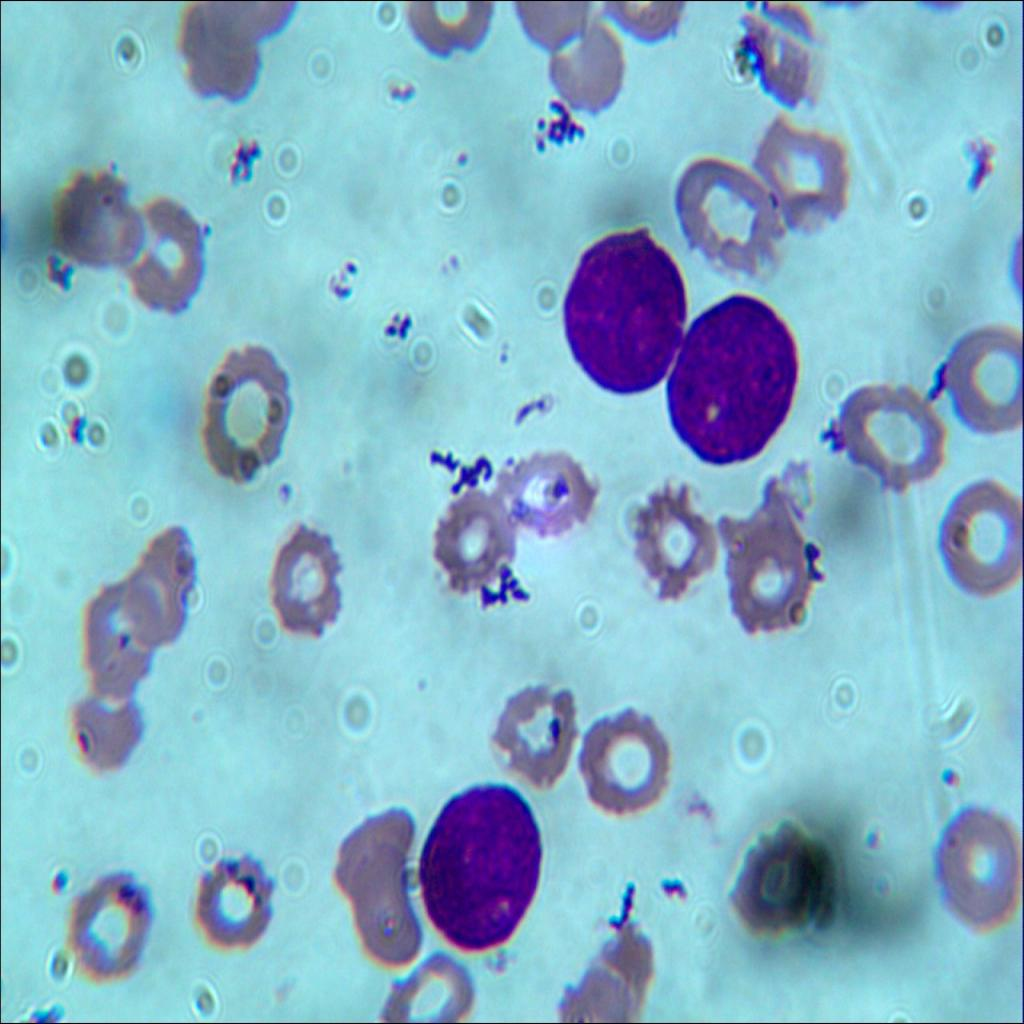Eritrosit: (669, 154, 789, 280), (204, 340, 298, 489), (830, 372, 942, 494), (938, 461, 1024, 610), (728, 812, 822, 947), (751, 111, 853, 230), (584, 694, 678, 820), (930, 815, 1024, 938), (624, 475, 713, 597), (489, 681, 578, 802), (120, 201, 218, 308), (78, 582, 158, 708), (570, 914, 661, 1023), (166, 1, 268, 97), (726, 508, 806, 630), (56, 161, 141, 274), (429, 487, 523, 589), (498, 447, 596, 538), (191, 850, 271, 961), (942, 322, 1023, 431), (68, 878, 158, 971), (343, 856, 422, 961), (270, 534, 344, 638), (744, 5, 818, 108), (132, 522, 194, 642), (336, 797, 411, 894), (544, 17, 626, 104), (69, 675, 136, 781), (374, 955, 474, 1023), (398, 0, 503, 55)
Limfoblast: (655, 278, 803, 454), (411, 771, 548, 948), (562, 234, 680, 396)
Platelet: (938, 758, 966, 804), (335, 245, 368, 282), (49, 854, 78, 895), (858, 818, 886, 858), (43, 859, 71, 895), (446, 137, 471, 174)
